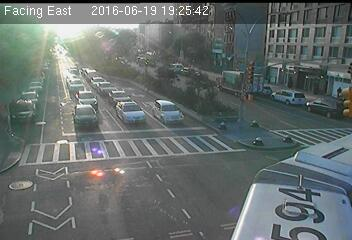neg: (150, 42, 179, 81), (82, 144, 111, 183), (299, 154, 323, 186), (287, 194, 310, 225), (9, 121, 32, 151), (164, 161, 186, 191), (44, 181, 66, 210), (103, 176, 125, 205), (322, 85, 343, 113), (121, 95, 142, 122), (245, 176, 265, 203), (173, 108, 192, 134), (8, 81, 27, 107), (25, 42, 44, 67), (13, 169, 30, 193), (242, 71, 259, 93), (59, 20, 76, 42), (286, 58, 302, 78), (105, 41, 120, 61), (225, 40, 239, 58), (248, 132, 262, 149), (281, 126, 294, 143)
